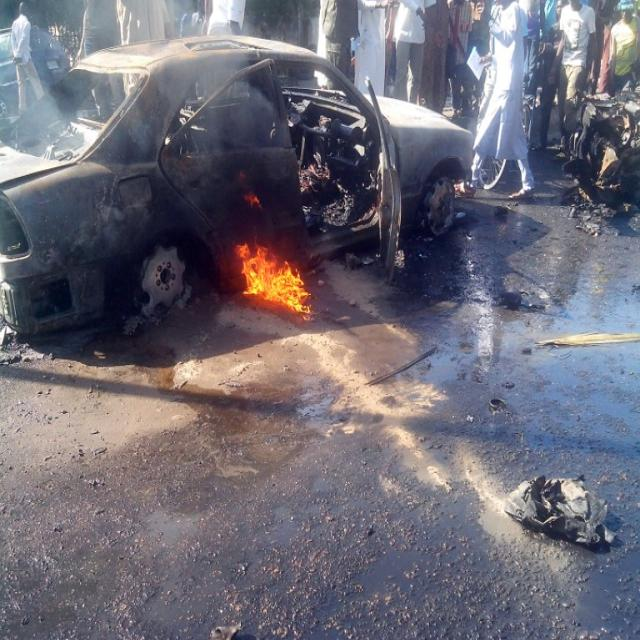fire: (232, 240, 312, 320)
